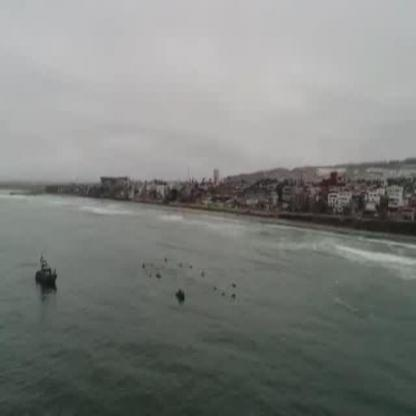Boat: (34, 251, 60, 298)
